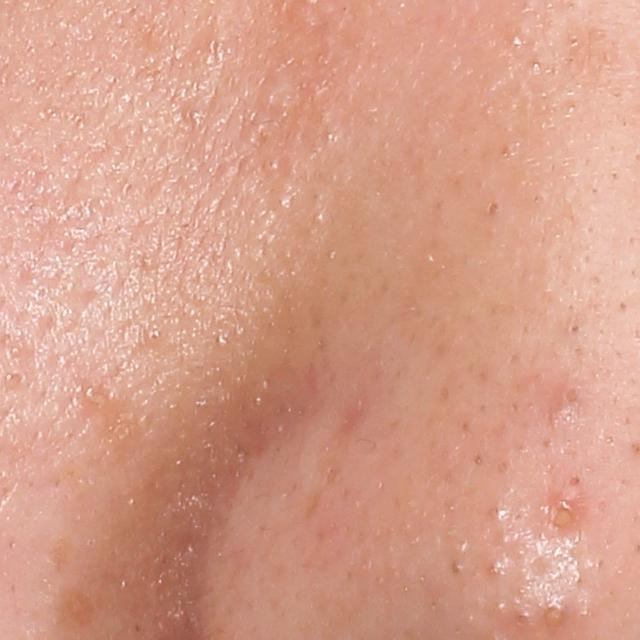comedo: (539, 600, 566, 632), (483, 197, 501, 218), (567, 320, 583, 335)
